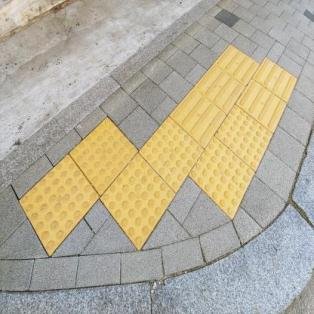Podoctatil: (16, 41, 301, 263)
